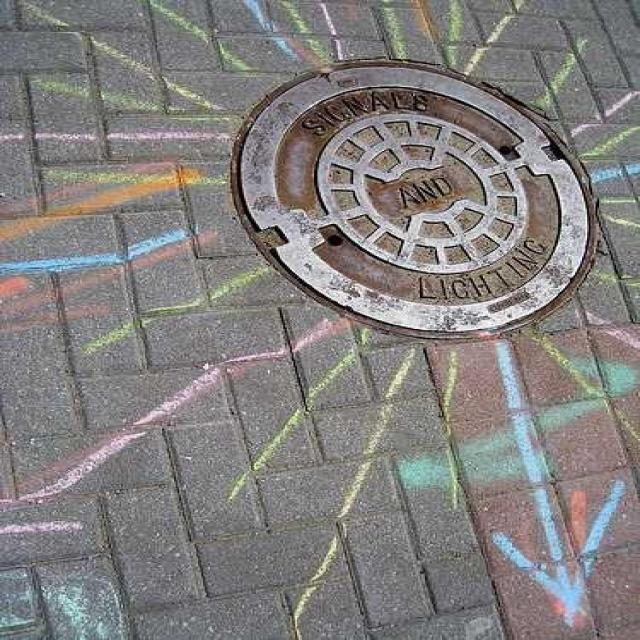manhole: (232, 62, 597, 339)
